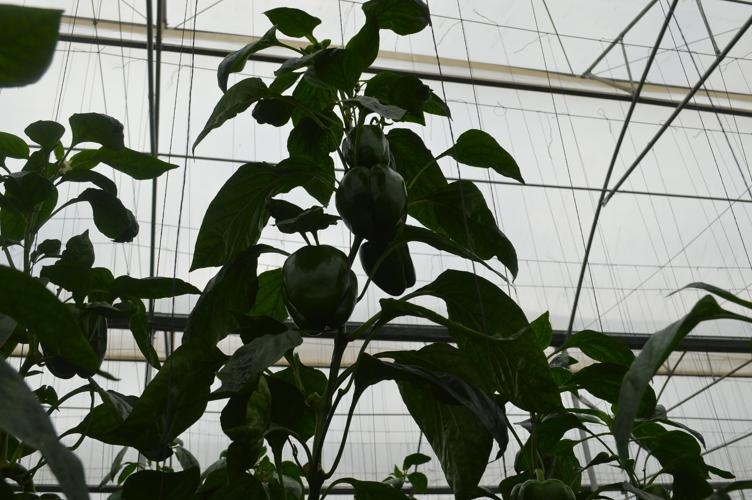BellPepper: (270, 241, 364, 337), (333, 162, 415, 244), (332, 122, 409, 175)
